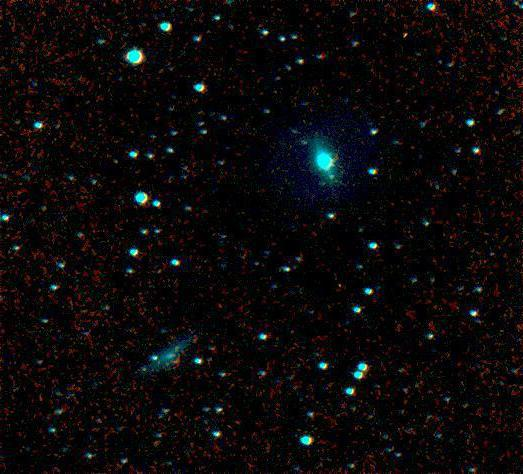star: (393, 21, 423, 51)
